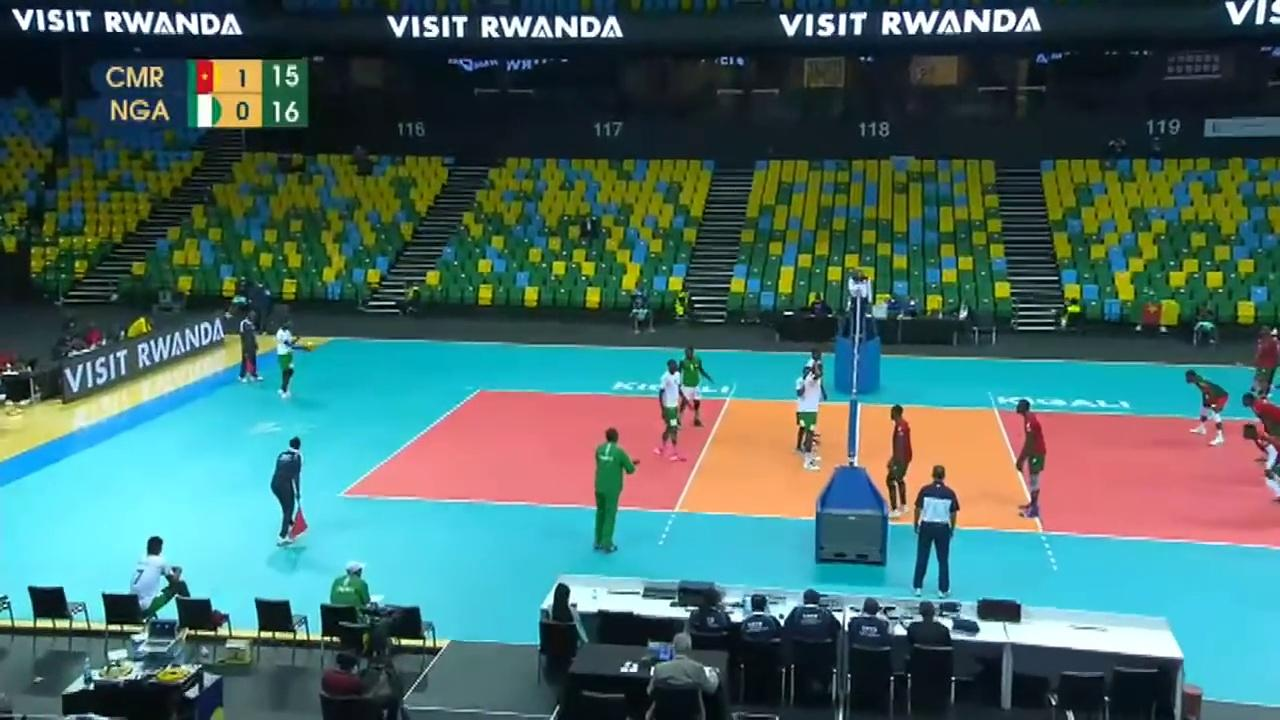player: (1000, 399, 1046, 516), (1182, 369, 1228, 449), (654, 360, 689, 462), (882, 406, 914, 513), (1242, 424, 1280, 508), (676, 346, 710, 429), (1249, 321, 1279, 412), (1242, 391, 1280, 459), (804, 365, 825, 472), (271, 318, 299, 395), (804, 349, 827, 437), (796, 367, 813, 454)
refree: (908, 467, 963, 592), (270, 437, 306, 543), (239, 310, 262, 385), (847, 264, 871, 333)
